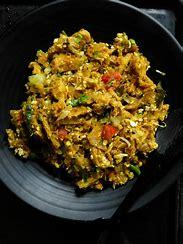Kottu: (12, 22, 175, 207)
